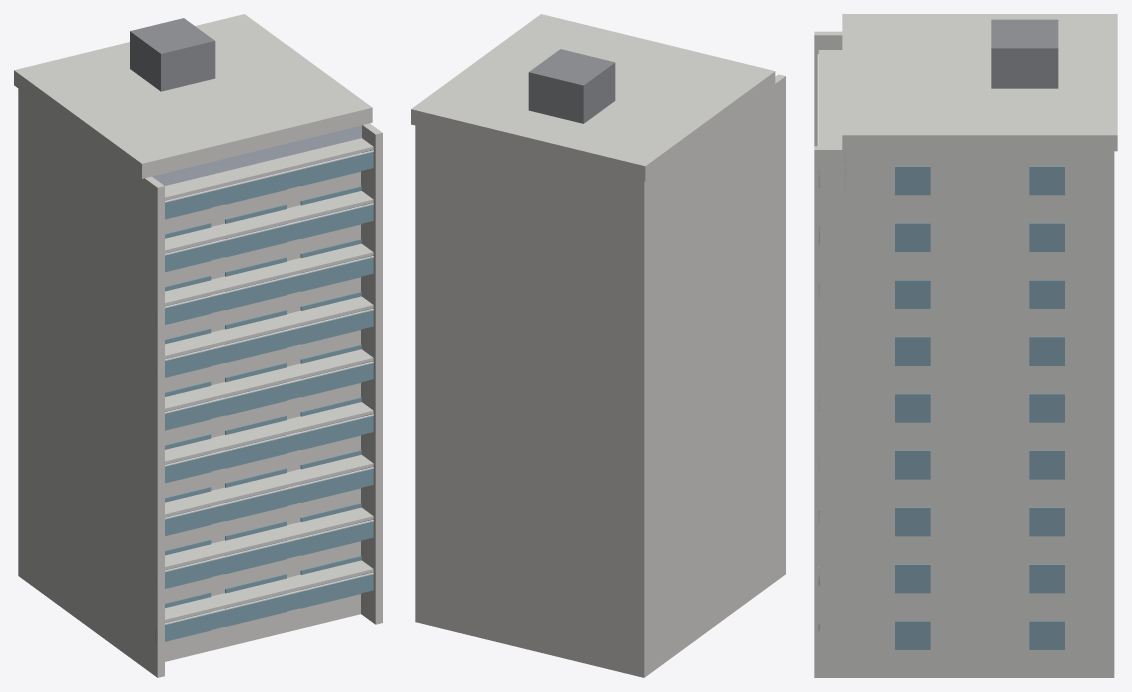
Rendered from apt.glb.
The picture shows the model from 3 angles, left to right: view 1: azimuth 30°, elevation 25°; view 2: azimuth 150°, elevation 25°; view 3: azimuth 270°, elevation 25°; orthographic projection. The views are drawn at different scales.
Parts seen in each view (by area): view 1: Cube, Cube.002, Cube.077, Cube.003, Cube.073; view 2: Cube, Cube.077; view 3: Cube, Cube.002, Cube.077.
Boxes of the visible parts, x1,y1,x2,y2 form: Cube: [14, 14, 382, 677]; Cube.002: [155, 152, 373, 642]; Cube.077: [130, 18, 215, 91]; Cube.003: [155, 150, 373, 626]; Cube.073: [143, 125, 361, 214]; Cube: [411, 14, 785, 677]; Cube.077: [528, 49, 615, 123]; Cube: [814, 14, 1117, 677]; Cube.002: [818, 166, 1064, 649]; Cube.077: [991, 19, 1058, 88].
Bounding box in the file's own units: 12.8 × 28.8 × 13.55.
